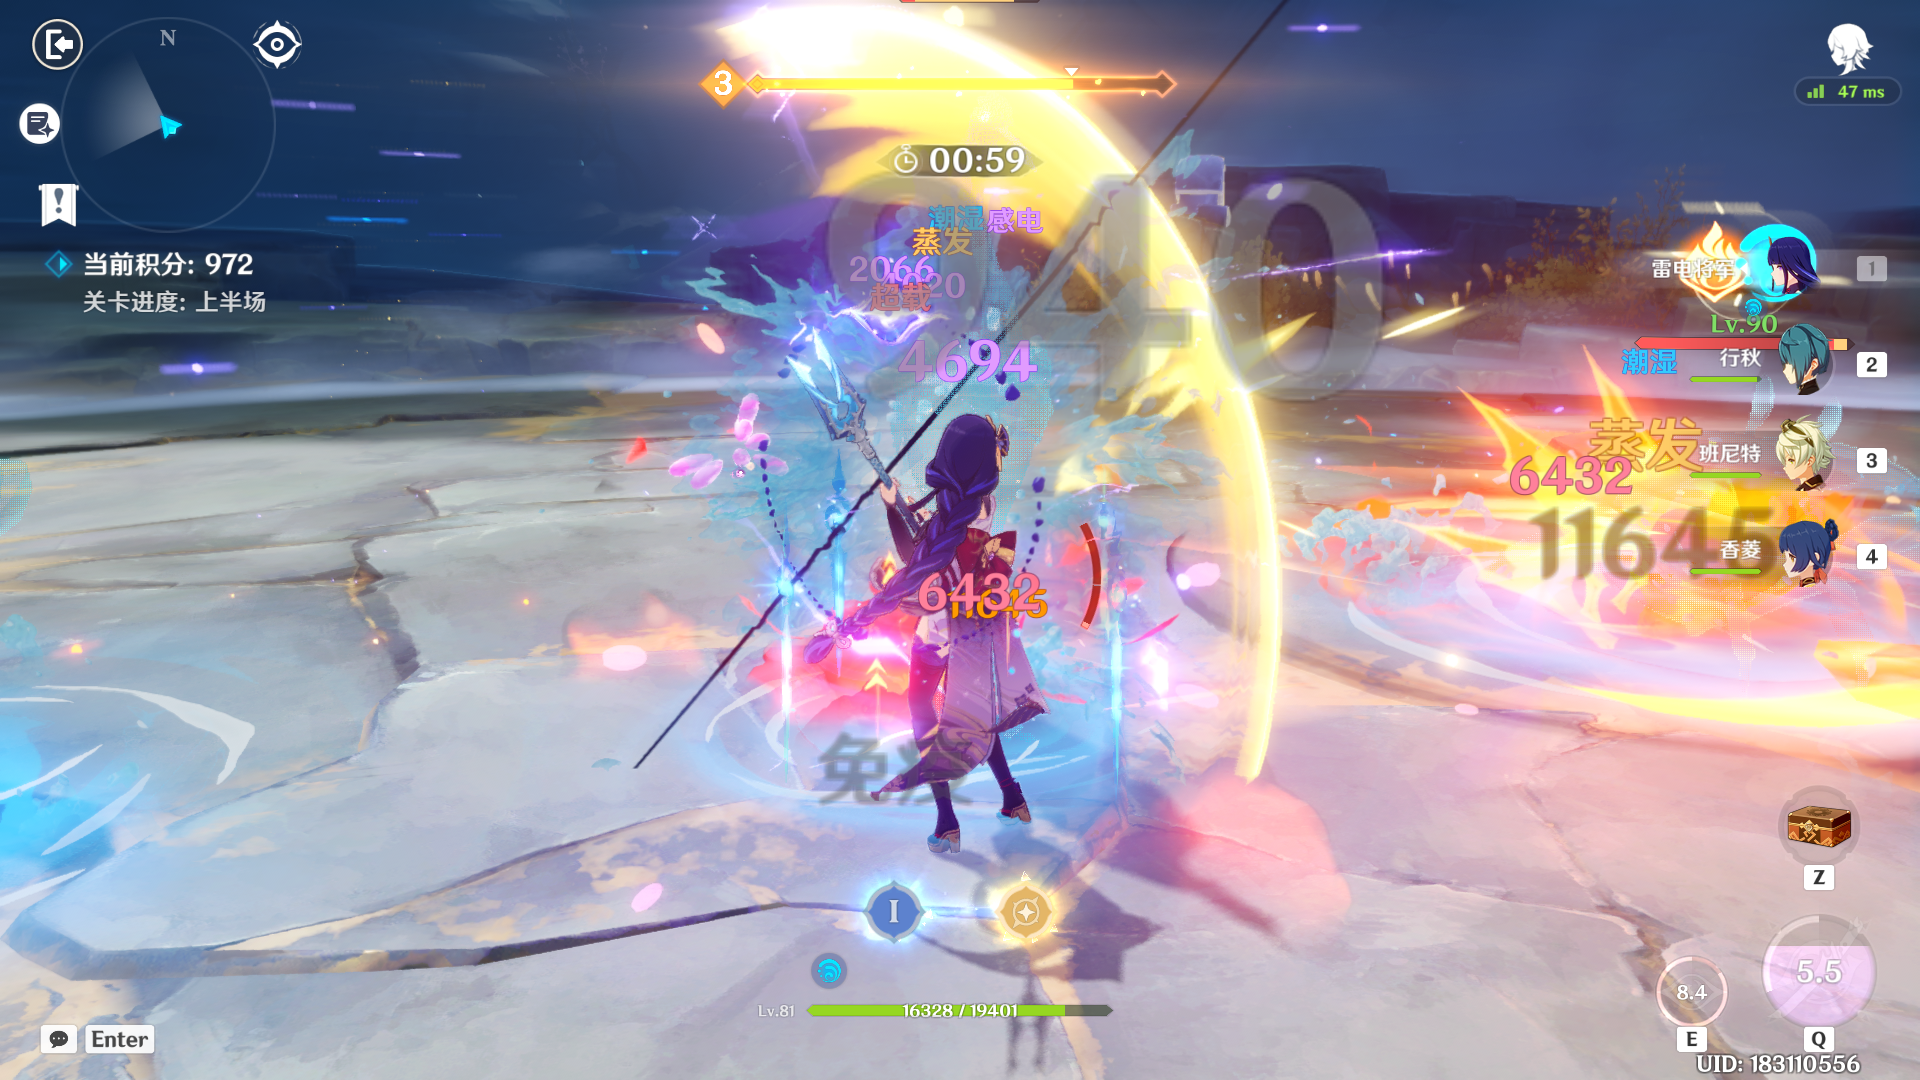character: (804, 375, 1095, 884)
